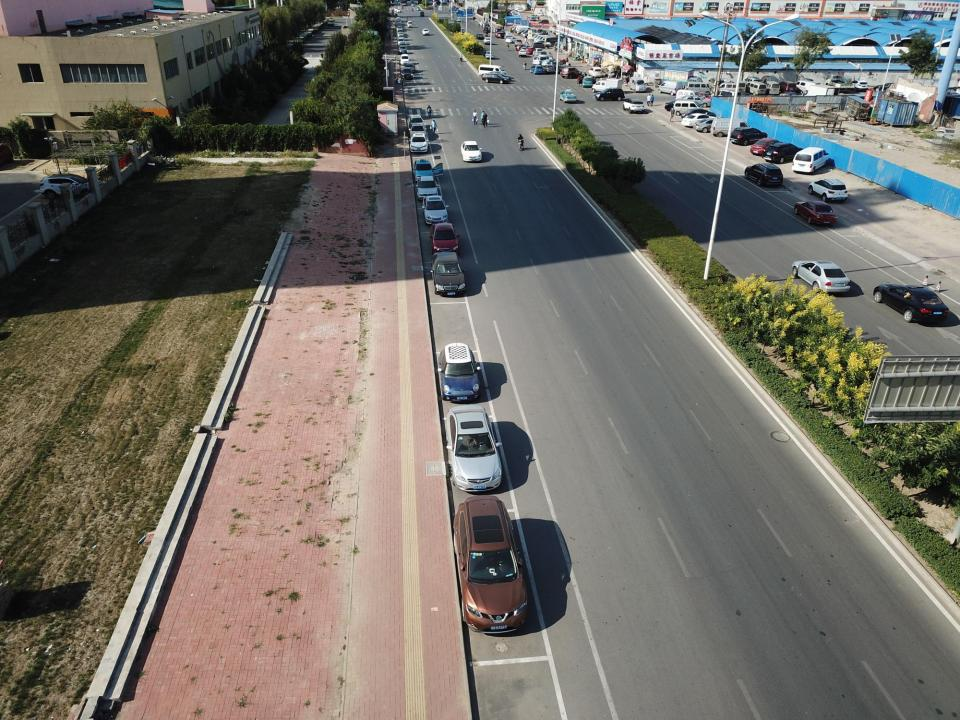car: (455, 496, 529, 634), (445, 405, 503, 492), (873, 284, 950, 323), (439, 342, 481, 401), (791, 260, 851, 293), (40, 173, 97, 200), (432, 252, 466, 294), (794, 201, 838, 225), (429, 223, 459, 255), (744, 163, 784, 186), (762, 142, 804, 163), (809, 179, 847, 201), (422, 196, 450, 224), (730, 126, 768, 146), (413, 160, 444, 182), (693, 118, 732, 133), (416, 176, 439, 201), (750, 138, 783, 155), (682, 113, 719, 128), (675, 95, 711, 108), (461, 141, 482, 161), (409, 133, 430, 153), (594, 87, 624, 101), (664, 99, 694, 113), (682, 108, 716, 120), (623, 98, 644, 113), (482, 73, 510, 84), (408, 123, 426, 139), (484, 72, 511, 82), (874, 82, 900, 92), (560, 67, 582, 78), (694, 91, 714, 103), (408, 115, 425, 128), (850, 79, 868, 91), (576, 77, 596, 87), (560, 90, 576, 102), (588, 66, 602, 78), (542, 58, 560, 67), (531, 42, 549, 49), (533, 40, 551, 47), (401, 68, 413, 78), (530, 65, 543, 74), (542, 64, 555, 73), (400, 54, 410, 65), (404, 63, 416, 72), (557, 66, 570, 74), (532, 48, 543, 56), (398, 45, 408, 53), (506, 36, 518, 42), (536, 51, 546, 58), (516, 44, 527, 50), (484, 37, 492, 45), (485, 51, 494, 58), (514, 40, 523, 47), (525, 47, 534, 54), (520, 45, 530, 51), (422, 28, 430, 35), (519, 50, 526, 57), (397, 38, 405, 44), (534, 12, 546, 16), (328, 19, 334, 26), (476, 33, 483, 39), (459, 28, 465, 34), (457, 16, 462, 22), (416, 6, 421, 10), (411, 3, 415, 7), (410, 0, 414, 3)
truck: (663, 66, 703, 89), (800, 84, 841, 102), (824, 74, 854, 93), (591, 79, 622, 93), (530, 15, 536, 21)
van: (791, 147, 829, 174), (710, 118, 751, 138), (673, 99, 704, 115), (713, 89, 742, 103), (793, 80, 821, 94), (676, 89, 704, 103), (658, 81, 683, 96), (478, 64, 506, 77), (745, 80, 766, 96), (685, 82, 711, 94), (628, 76, 646, 92), (707, 77, 725, 91), (777, 80, 796, 93), (716, 83, 738, 93), (728, 80, 746, 92), (765, 81, 780, 94), (744, 76, 760, 87), (532, 55, 551, 64), (759, 76, 776, 86), (538, 19, 548, 24), (505, 32, 512, 39), (406, 21, 412, 27), (419, 11, 425, 17)
